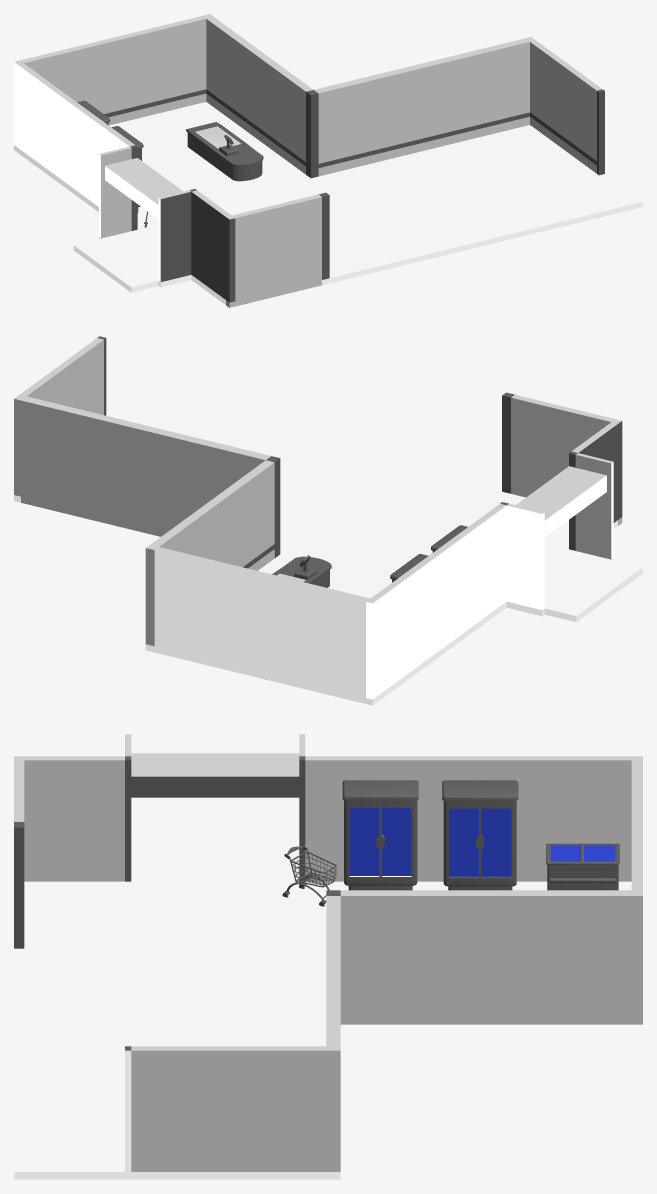
Rendered from Main_Scene(Textured).glb.
3 views of the same model, one above another, from view 1: azimuth 30°, elevation 25°; view 2: azimuth 150°, elevation 25°; view 3: azimuth 270°, elevation 25° (orthographic). The views are drawn at different scales.
Visible parts, largest first — view 1: Cube; view 2: Cube; view 3: Cube.
Part boxes in pixels (box(x1,y1,x2,y2)): Cube: box(14, 14, 642, 307); Cube: box(14, 336, 642, 705); Cube: box(14, 734, 642, 1179).
Bounding box in the file's own units: 39.53 × 7.72 × 31.29.
